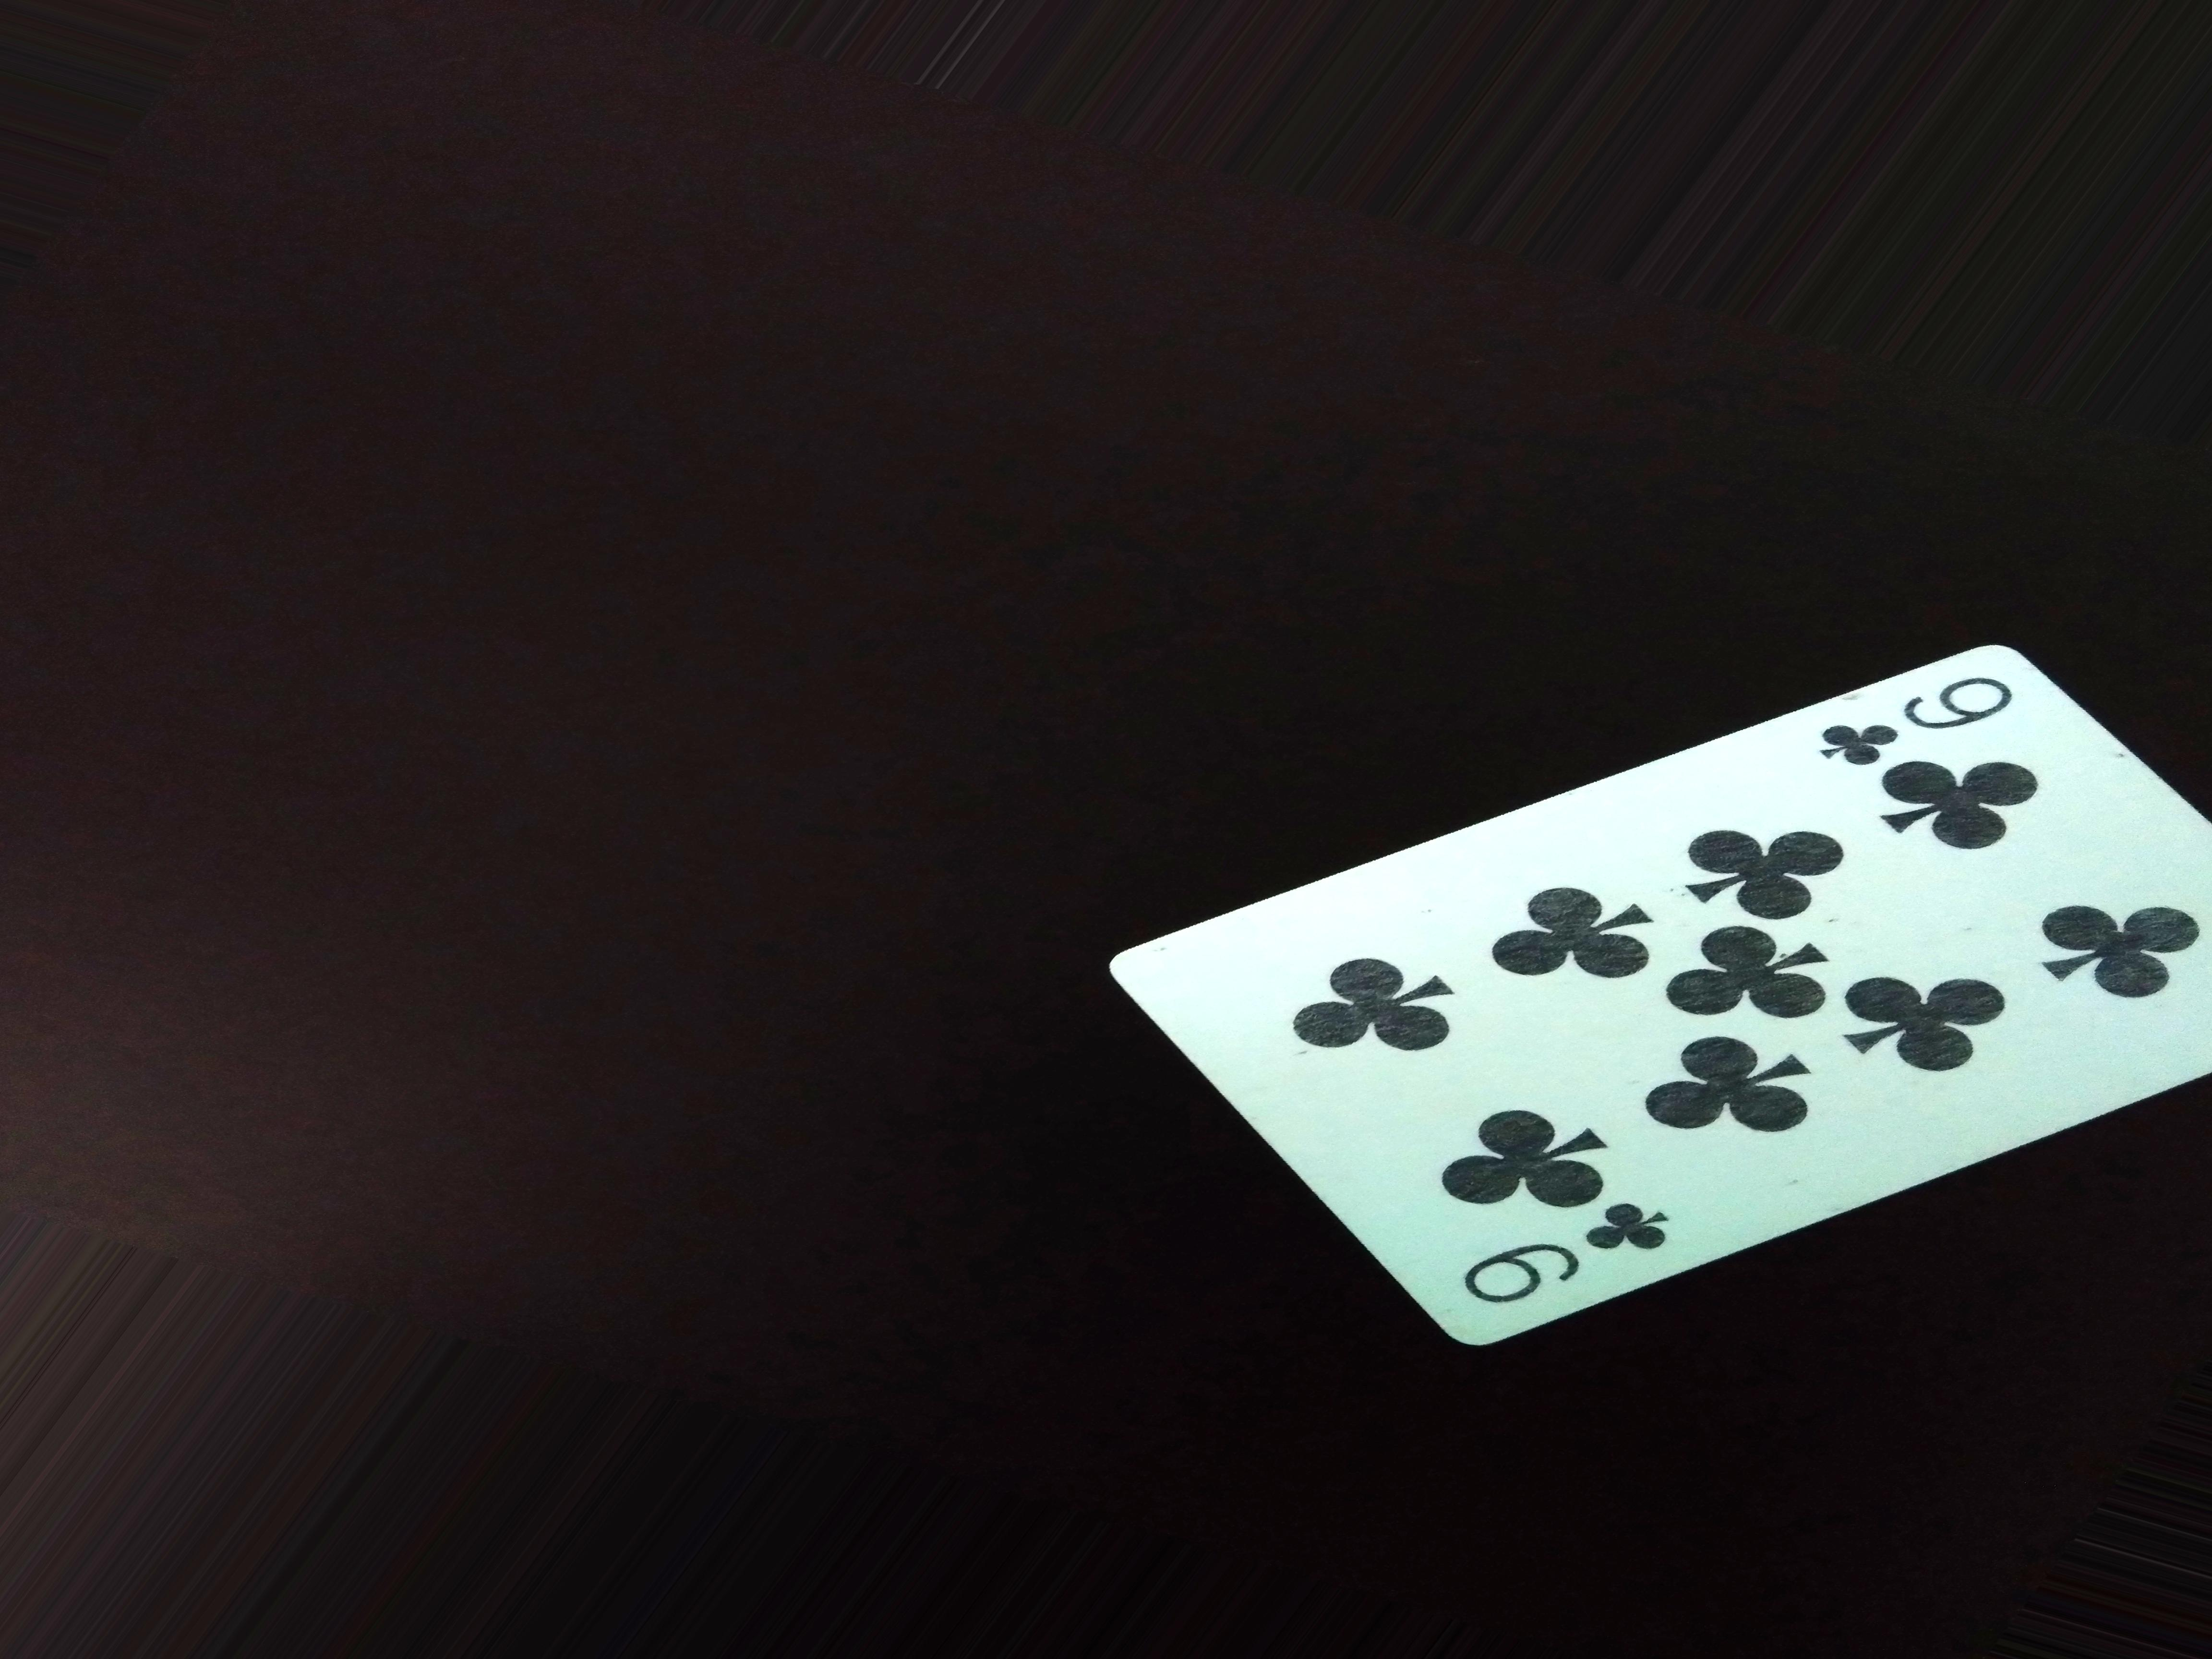9C: (1797, 652, 2050, 765)
